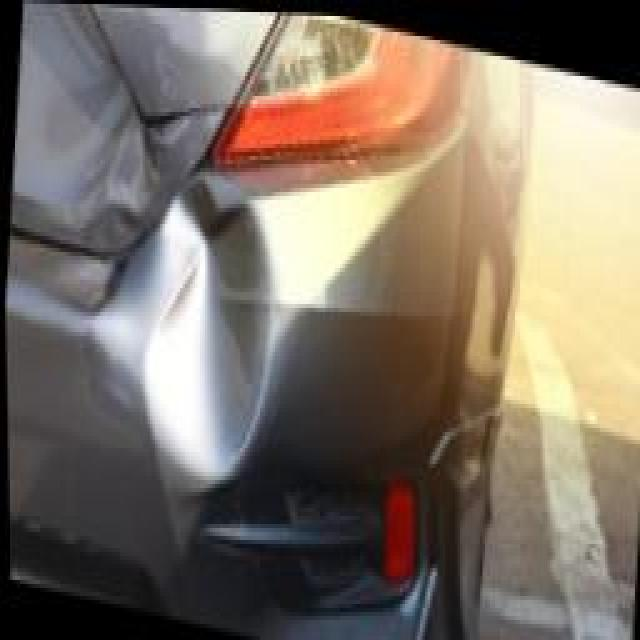Bumper: (98, 164, 302, 511)
Dickey: (55, 4, 179, 252)
